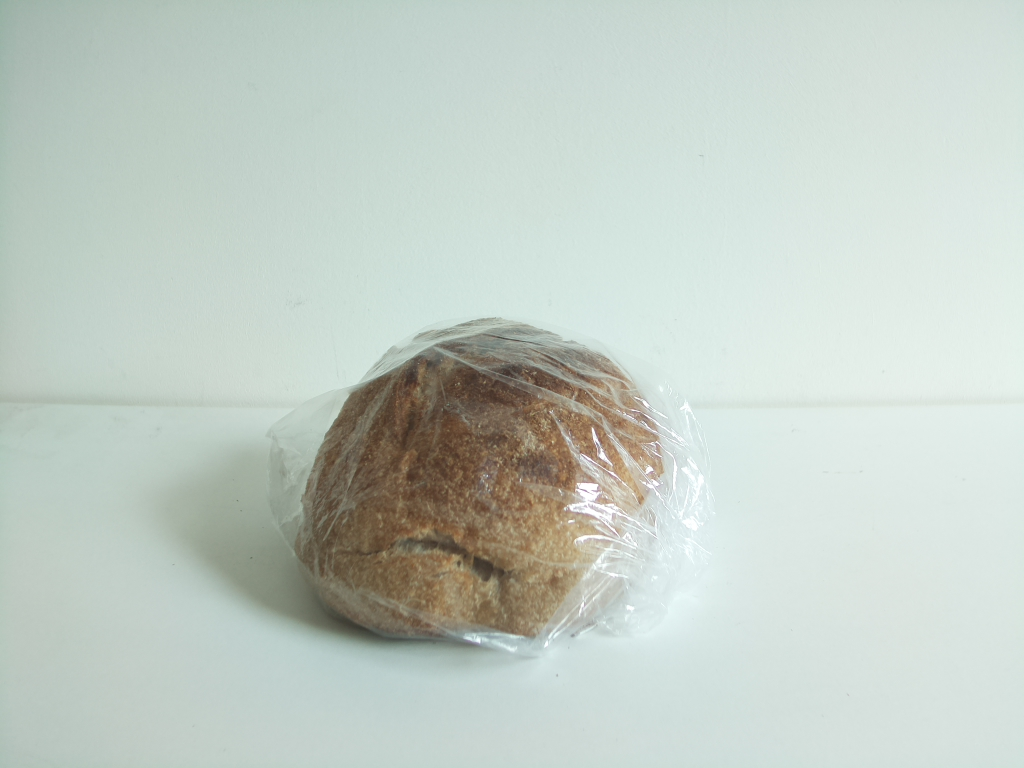bread: (294, 317, 691, 645)
